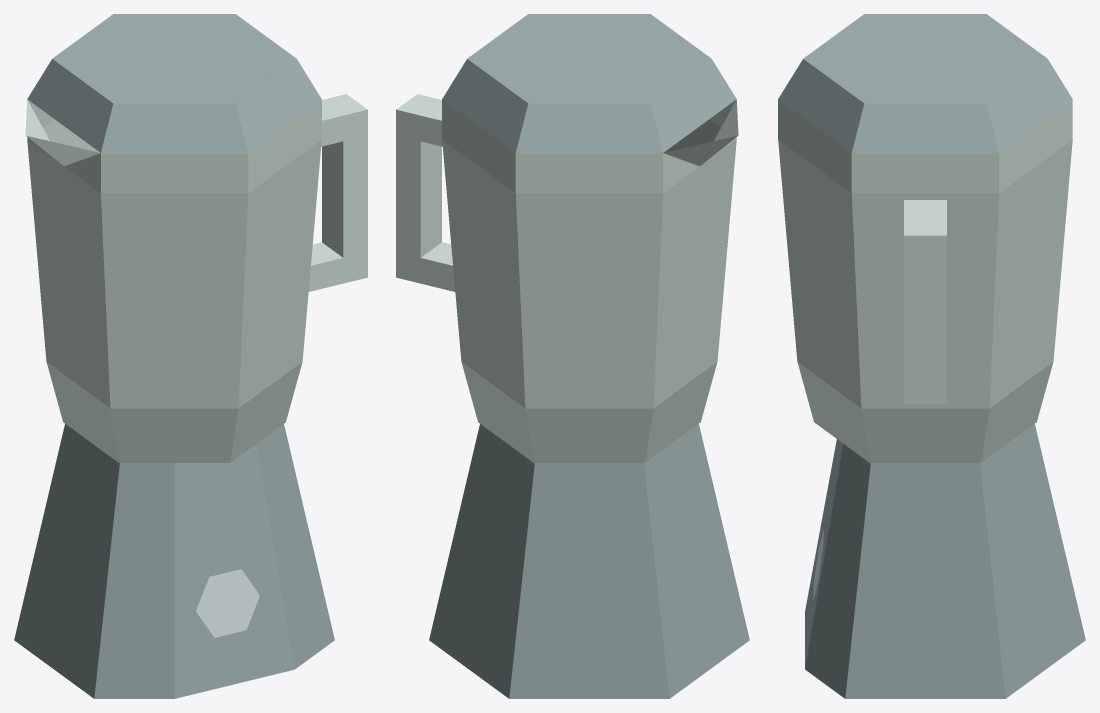
File: kitchenBlender.glb
3 views of the same model, side by side, from view 1: azimuth 30°, elevation 25°; view 2: azimuth 150°, elevation 25°; view 3: azimuth 270°, elevation 25° (orthographic).
Visible parts, largest first — view 1: blenderCup, kitchenBlender(Clone), blenderTop; view 2: blenderCup, kitchenBlender(Clone), blenderTop; view 3: blenderCup, kitchenBlender(Clone), blenderTop.
Boxes of the visible parts, left/top/right/bottom form: blenderCup: left=25, top=94, right=367, bottom=462; kitchenBlender(Clone): left=14, top=424, right=334, bottom=698; blenderTop: left=27, top=14, right=321, bottom=152; blenderCup: left=396, top=94, right=738, bottom=462; kitchenBlender(Clone): left=429, top=424, right=749, bottom=698; blenderTop: left=442, top=14, right=736, bottom=152; blenderCup: left=778, top=99, right=1072, bottom=462; kitchenBlender(Clone): left=805, top=424, right=1085, bottom=698; blenderTop: left=778, top=14, right=1072, bottom=152.
Bounding box in the file's own units: 0.2757 × 0.4619 × 0.2215.
Materials: 3 (3 with a texture image).
